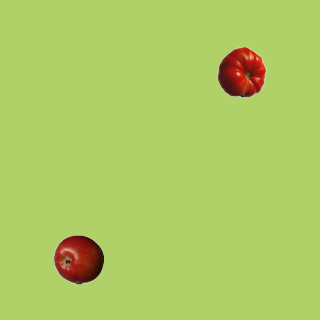Apple Braeburn: (53, 234, 103, 284)
Tomato 3: (216, 46, 266, 96)
